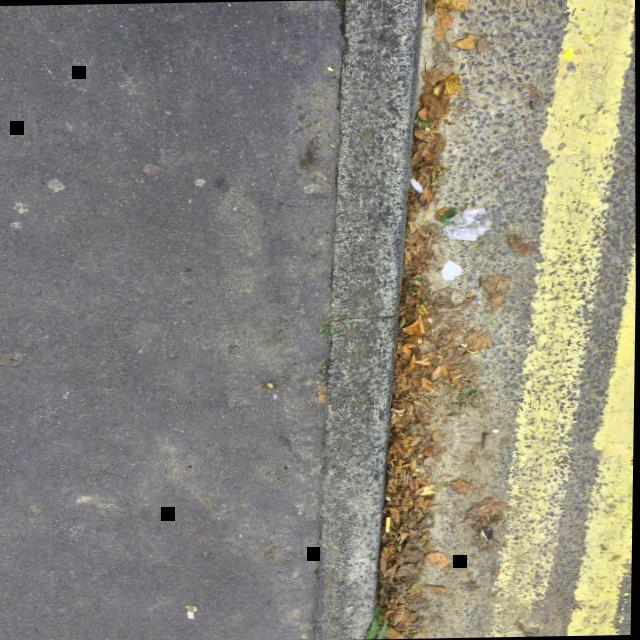Cigarette: (387, 516, 392, 532)
Plastic film: (443, 208, 493, 240)
Unlabeled litter: (441, 260, 462, 280)
